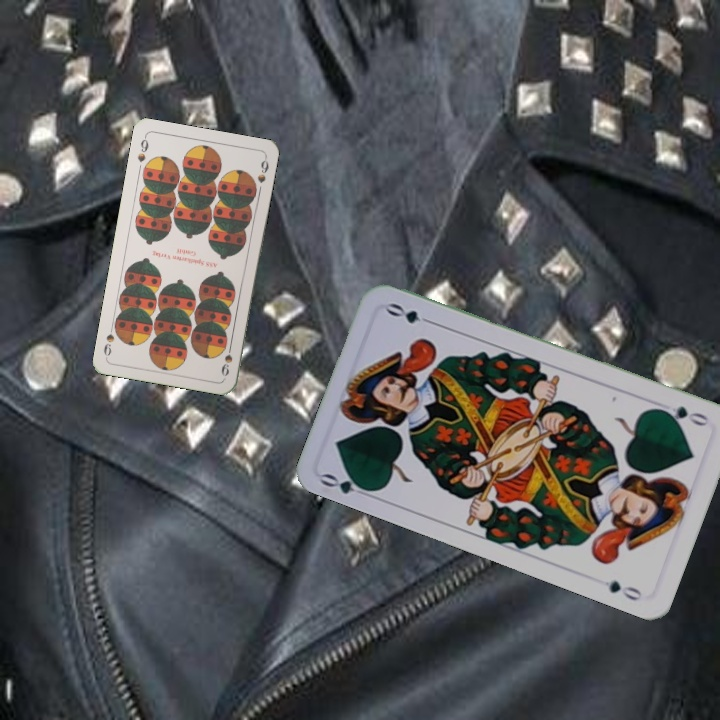GO: (317, 468, 376, 501), (655, 402, 711, 429)
S9: (217, 339, 235, 379), (133, 132, 151, 165)
